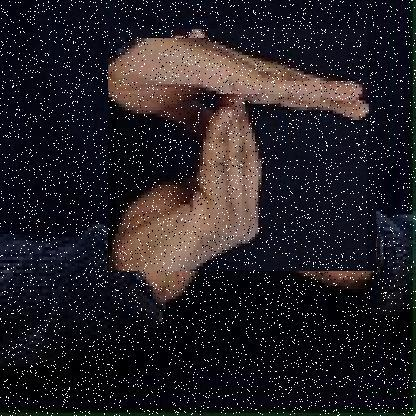Z: (116, 29, 368, 281)
